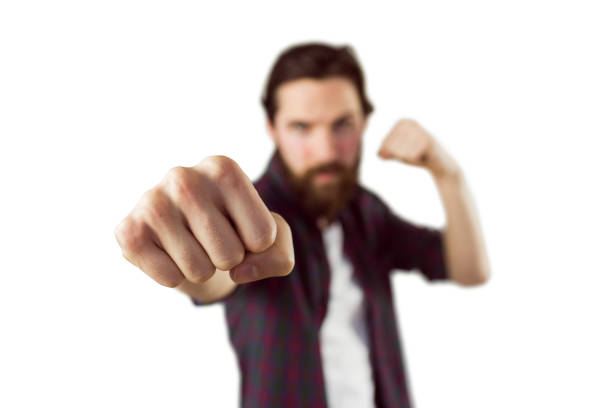Yes: (113, 150, 301, 302)
